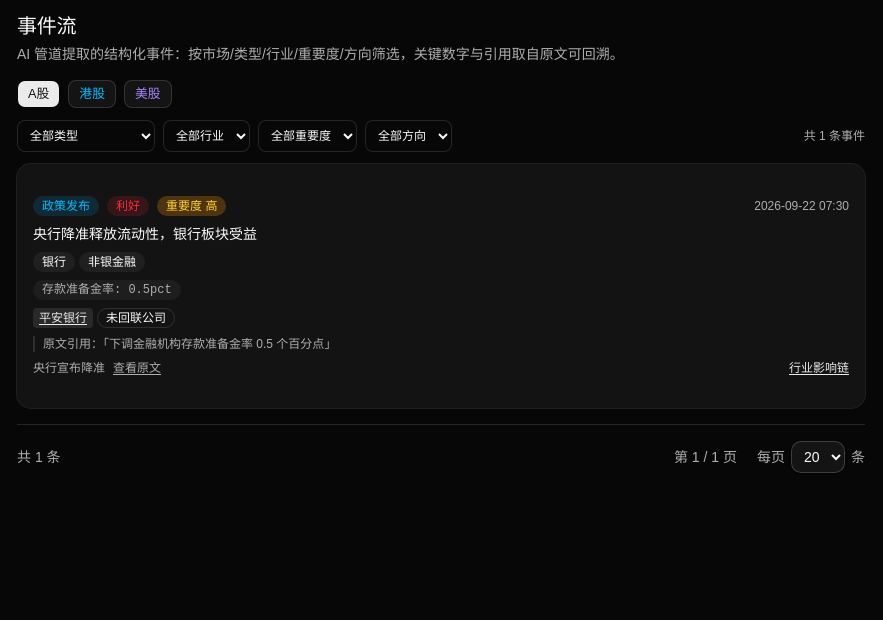
it: Events 事件流页（T127 + T224 分页化，#/events） › 影响链区块：首展拉取并渲染行业/方向/逻辑链 + 依据回溯展开 + 模板态与免责标注；再展不重复请求
Expected: the element with test id "event-card-9" is shown, left=17, top=164, right=865, bottom=408
Click the button with test id "impact-chain-toggle-9".
click(819, 368)  # box left=789, top=360, right=849, bottom=376
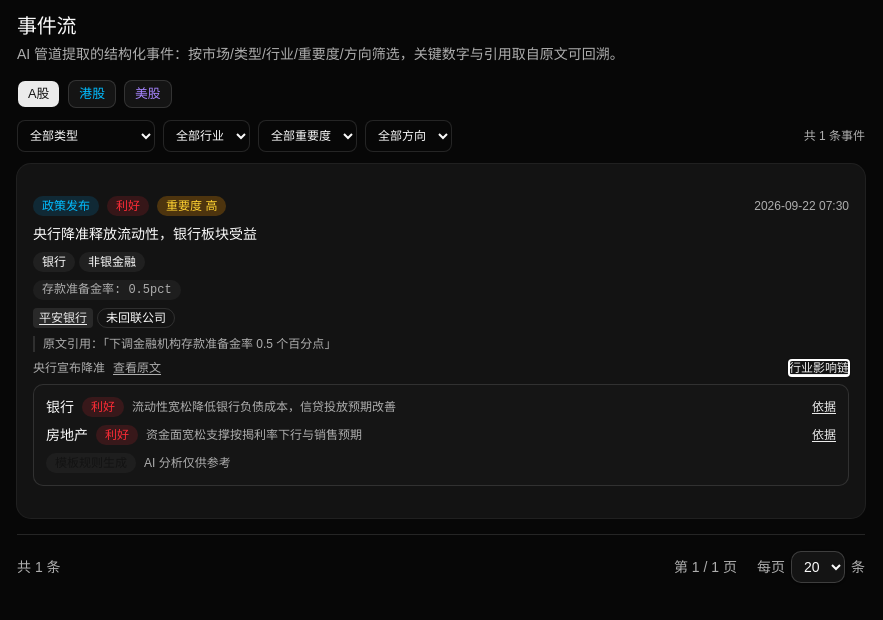
Now the element with test id "impact-chain-row-银行" shows "流动性宽松降低银行负债成本", box left=132, top=400, right=396, bottom=414
Now the element with test id "impact-chain-row-银行" shows "利好", box left=91, top=400, right=115, bottom=414
Now the element with test id "impact-chain-row-房地产" is shown, box left=46, top=425, right=836, bottom=445
# 依据展开：引用原文回溯
Click the button with test id "impact-chain-basis-银行".
click(824, 407)  # box left=812, top=399, right=836, bottom=415
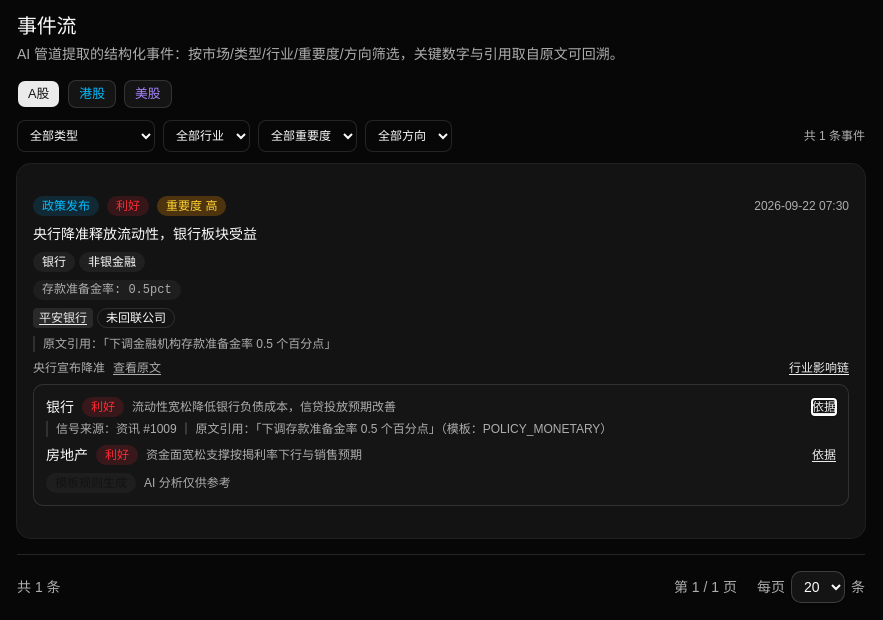
Now the text with test id "impact-chain-basis-detail-银行" shows "下调存款准备金率 0.5 个百分点", box left=177, top=422, right=441, bottom=436
# 收起再展开：读组件内缓存，不重复请求
Click the button with test id "impact-chain-toggle-9".
click(819, 368)  # box left=789, top=360, right=849, bottom=376
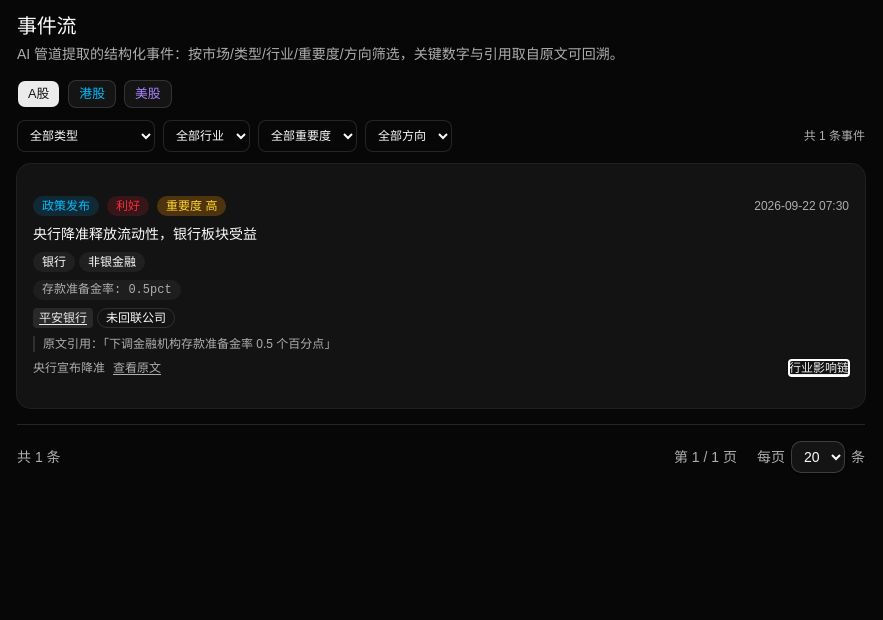
Now the element with test id "impact-chain-section-9" is gone
Click the button with test id "impact-chain-toggle-9".
click(819, 368)  # box left=789, top=360, right=849, bottom=376
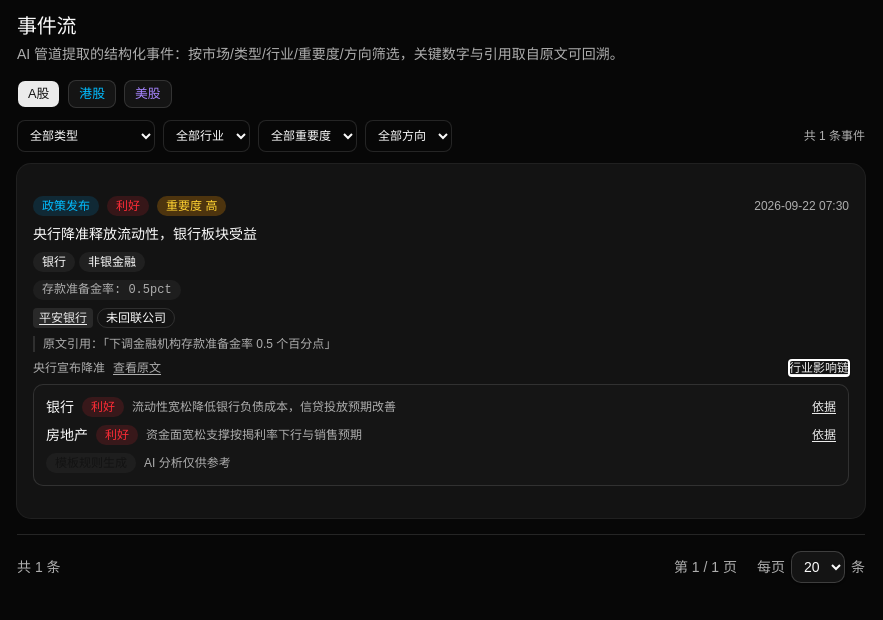
Now the element with test id "impact-chain-section-9" is shown, box left=33, top=384, right=849, bottom=486
